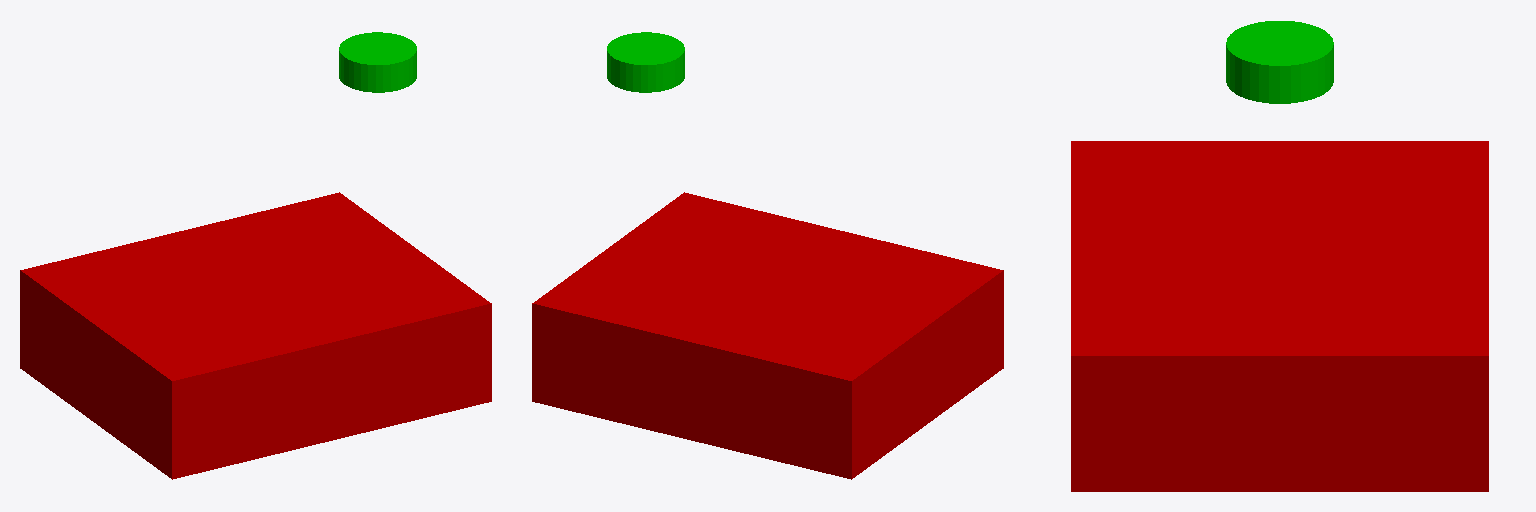
The robot description file, URDF, robot "R2MINI":
<?xml version="1.0" encoding="UTF-8"?>
<robot name="R2MINI" xmlns:xacro="http://www.ros.org/wiki/xacro">

    <material name="black">
        <color rgba="0.0 0.0 0.0 1.0"/>
    </material>

    <material name="dark">
        <color rgba="0.3 0.3 0.3 1.0"/>
    </material>

    <material name="light_black">
        <color rgba="0.4 0.4 0.4 1.0"/>
    </material>

    <material name="blue">
        <color rgba="0.0 0.0 0.8 1.0"/>
    </material>

    <material name="green">
        <color rgba="0.0 0.8 0.0 1.0"/>
    </material>

    <material name="grey">
        <color rgba="0.5 0.5 0.5 1.0"/>
    </material>

    <material name="orange">
        <color rgba="1.0 0.4235 0.0392 1.0"/>
    </material>

    <material name="brown">
        <color rgba="0.8706 0.8118 0.7647 1.0"/>
    </material>

    <material name="red">
        <color rgba="0.8 0.0 0.0 1.0"/>
    </material>

    <material name="white">
        <color rgba="1.0 1.0 1.0 1.0"/>
    </material>

    <material name="yellow">
        <color rgba="1.0 1.0 0.0 1.0"/>
    </material>

    <link name="base_footprint"/>

    <joint name="base_joint" type="fixed">
        <origin xyz="0.0 0.0 0.016" rpy="0.0 0.0 0.0"/>
        <parent link="base_footprint"/>
        <child link="base_link"/>
    </joint>

    <link name="base_link">
        <visual>
            <origin xyz="-0.055 0.0 0.025" rpy="0.0 0.0 0.0"/>
            <geometry>
                <!-- <mesh filename="package://omorobot_description/meshes/bases/R2MINI_BODY.dae" scale="1 1 1"/> -->
                <box size="0.17 0.14 0.05"/>
            </geometry>
            <material name="red"/>
        </visual>
        <collision>
            <origin xyz="-0.055 0.0 0.025" rpy="0.0 0.0 0.0"/>
            <geometry>
                <box size="0.17 0.14 0.05"/>
            </geometry>
        </collision>
    </link>

    <joint name="wheel_left_joint" type="continuous">
        <origin xyz="0.0 0.09 0.02" rpy="-1.57 0.0 0.0"/>
        <parent link="base_link"/>
        <child link="wheel_left_link"/>
        <axis xyz="0.0 0.0 1.0"/>
    </joint>

    <link name="wheel_left_link">
        <visual>
            <origin xyz="0.034 -0.034 -0.0135" rpy="0.0 -1.57 0.0"/>
            <geometry>
                <mesh filename="package://omorobot_description/meshes/wheels/R2MINI_WHEEL.STL" scale="0.001 0.001 0.001"/>
            </geometry>
            <material name="blue"/>
        </visual>
        <collision>
            <origin xyz="0.0 0.0 0.0" rpy="0.0 0.0 0.0"/>
            <geometry>
                <cylinder radius="0.034" length="0.027"/>
            </geometry>
        </collision>
    </link>

    <joint name="wheel_right_joint" type="continuous">
        <origin xyz="0.0 -0.09 0.02" rpy="-1.57 0.0 0.0"/>
        <parent link="base_link"/>
        <child link="wheel_right_link"/>
        <axis xyz="0.0 0.0 1.0"/>
    </joint>

    <link name="wheel_right_link">
        <visual>
            <origin xyz="-0.034 -0.034 0.0135" rpy="0.0 1.57 0.0"/>
            <geometry>
                <mesh filename="package://omorobot_description/meshes/wheels/R2MINI_WHEEL.STL" scale="0.001 0.001 0.001"/>
            </geometry>
            <material name="blue"/>
        </visual>
        <collision>
            <origin xyz="0.0 0.0 0.0" rpy="0.0 0.0 0.0"/>
            <geometry>
                <cylinder radius="0.034" length="0.027"/>
            </geometry>
        </collision>
    </link>

    <joint name="imu_joint" type="fixed">
        <origin xyz="-0.02 0.02 0.05" rpy="0.0 0.0 0.0"/>
        <parent link="base_link"/>
        <child link="imu_link"/>
    </joint>

    <link name="imu_link"/>

    <joint name="scan_joint" type="fixed">
        <origin xyz="0.01 0.0 0.149" rpy="0.0 0.0 0.0"/>
        <parent link="base_link"/>
        <child link="base_scan"/>
        <axis xyz="0.0 0.0 0.0"/>
    </joint>

    <link name="base_scan">
        <visual>
            <origin xyz="0.0 0.0 0.0" rpy="0.0 0.0 0.0"/>
            <geometry>
                <!-- <mesh filename="package://omorobot_description/meshes/sensors/R2MINI_X4.dae" scale="1 1 1"/> -->
                <cylinder radius="0.018" length="0.014"/>
            </geometry>
            <material name="green"/>
        </visual>
        <collision>
            <origin xyz="0.0 0.0 0.0" rpy="0.0 0.0 0.0"/>
            <geometry>
                <cylinder radius="0.018" length="0.014"/>
            </geometry>
        </collision>
    </link>

</robot>

--- Facts derived from the render (not from the file) ---
3 views of the same robot in one strip: view 1: azimuth 30°, elevation 25°; view 2: azimuth 150°, elevation 25°; view 3: azimuth 270°, elevation 25° (orthographic).
Robot: R2MINI — 6 links, 5 joints (2 continuous, 3 fixed); root link base_footprint; default pose: every joint at zero.
Visible links, largest first — view 1: base_link, base_scan; view 2: base_link, base_scan; view 3: base_link, base_scan.
Boxes of the visible links, left/top/right/bottom form: base_link: left=20, top=192, right=491, bottom=479; base_scan: left=339, top=32, right=416, bottom=92; base_link: left=532, top=192, right=1003, bottom=479; base_scan: left=607, top=32, right=684, bottom=92; base_link: left=1071, top=141, right=1488, bottom=491; base_scan: left=1226, top=21, right=1333, bottom=103.
Bounding box of the posed robot: 0.17 × 0.14 × 0.156 m (x, y, z).
0 mesh visuals loaded from 1 distinct referenced files (none loaded); not drawn: 2 (reference not matched to a file when rendering).
